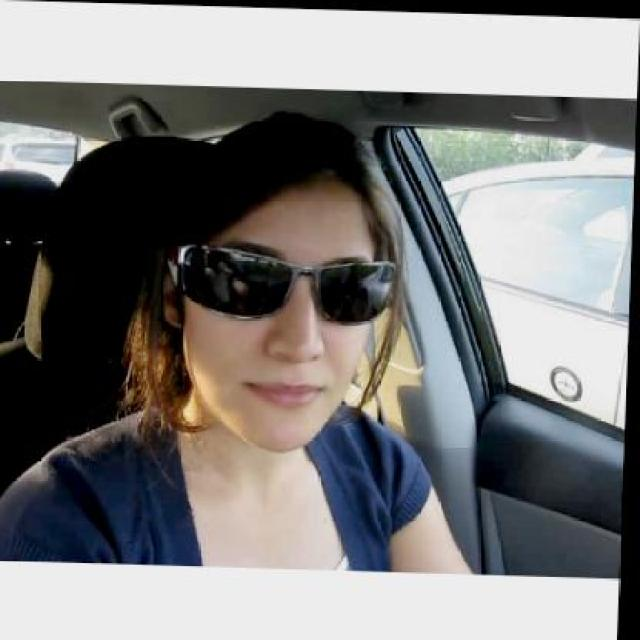attentif: (160, 109, 385, 452)
